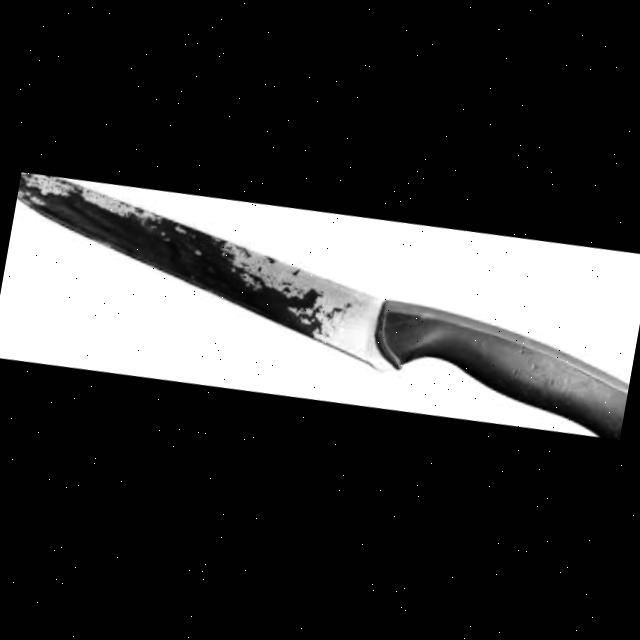knife: (0, 151, 640, 467)
